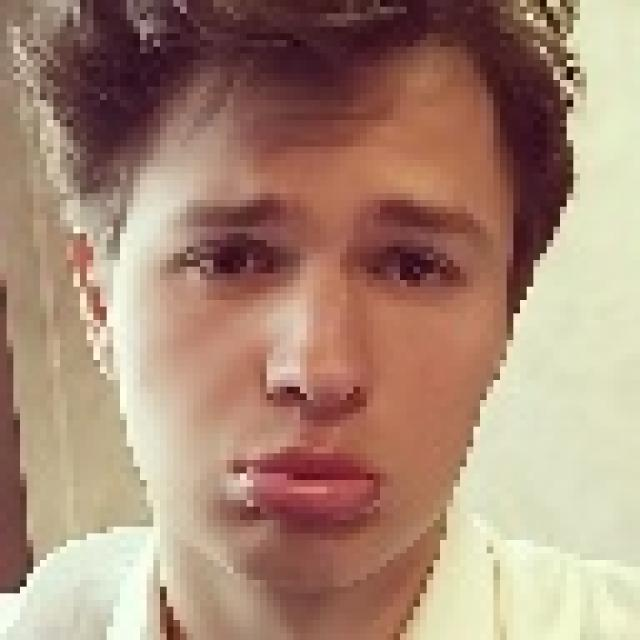sad: (72, 0, 569, 640)
